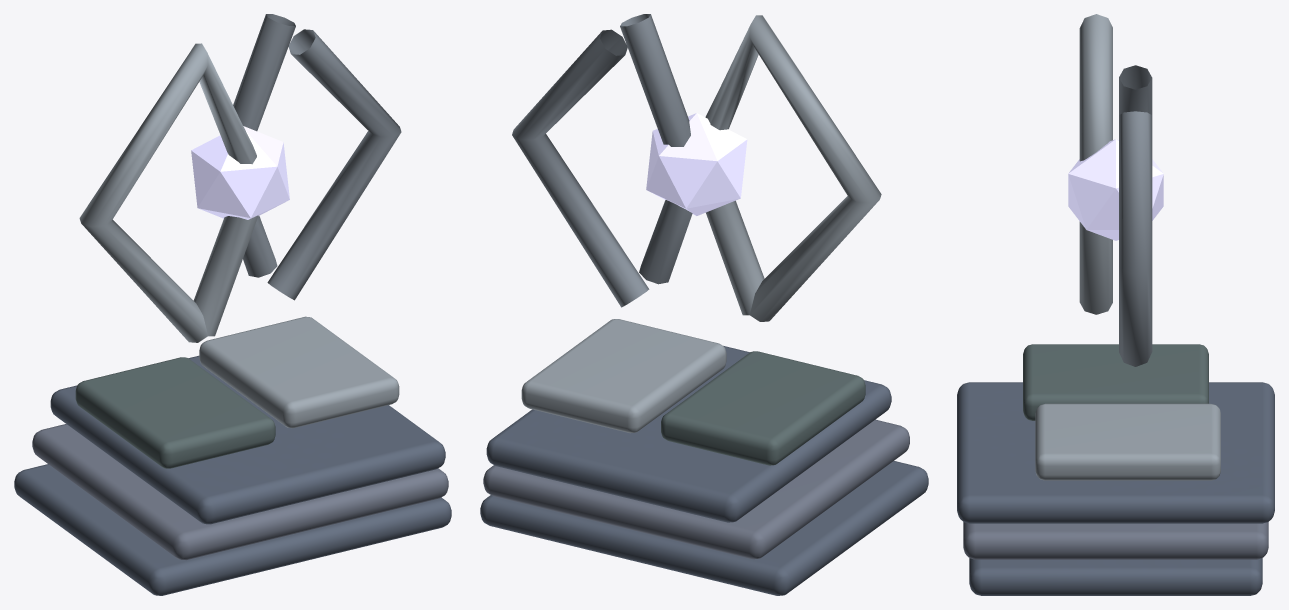
Rendered from BG_MEC_INNER_WORLD_SWITCH_001.glb.
3 renders of one model, left to right at view 1: azimuth 30°, elevation 25°; view 2: azimuth 150°, elevation 25°; view 3: azimuth 270°, elevation 25°, orthographic. The views are drawn at different scales.
Visible parts, largest first — view 1: Layered switch plinth 2, Layered switch plinth 0, Layered switch plinth 1, Twin diamond SwitchA, Split collar left, Split collar right, Split diamond rising, Shared center, Split diamond returning; view 2: Layered switch plinth 2, Layered switch plinth 0, Layered switch plinth 1, Twin diamond SwitchA, Split collar right, Split collar left, Split diamond rising, Shared center, Split diamond returning; view 3: Layered switch plinth 2, Split collar right, Layered switch plinth 1, Layered switch plinth 0, Split collar left, Split diamond rising, Twin diamond SwitchA, Shared center, Split diamond returning.
Boxes of the visible parts, x1,y1,x2,y2 form: Layered switch plinth 2: (50, 355, 445, 524); Layered switch plinth 0: (14, 464, 451, 595); Layered switch plinth 1: (32, 424, 448, 560); Twin diamond SwitchA: (79, 43, 258, 342); Split collar left: (75, 357, 275, 468); Split collar right: (199, 316, 399, 428); Split diamond rising: (267, 29, 401, 300); Shared center: (191, 126, 289, 219); Split diamond returning: (233, 14, 295, 277); Layered switch plinth 2: (486, 346, 891, 522); Layered switch plinth 0: (480, 461, 928, 595); Layered switch plinth 1: (483, 419, 909, 559); Twin diamond SwitchA: (705, 15, 881, 321); Split collar right: (521, 319, 726, 433); Split collar left: (661, 351, 865, 465); Split diamond rising: (512, 29, 649, 307); Shared center: (646, 113, 747, 215); Split diamond returning: (620, 14, 692, 284); Layered switch plinth 2: (957, 382, 1274, 523); Split collar right: (1035, 403, 1220, 480); Layered switch plinth 1: (963, 522, 1268, 559); Layered switch plinth 0: (969, 558, 1262, 595); Split collar left: (1023, 344, 1208, 420); Split diamond rising: (1119, 111, 1152, 366); Twin diamond SwitchA: (1079, 14, 1112, 314); Shared center: (1068, 139, 1163, 240); Split diamond returning: (1119, 65, 1152, 114).
Bounding box in the file's own units: 0.808 × 1.11 × 0.65.
Materials: 6 (1 with a texture image).
